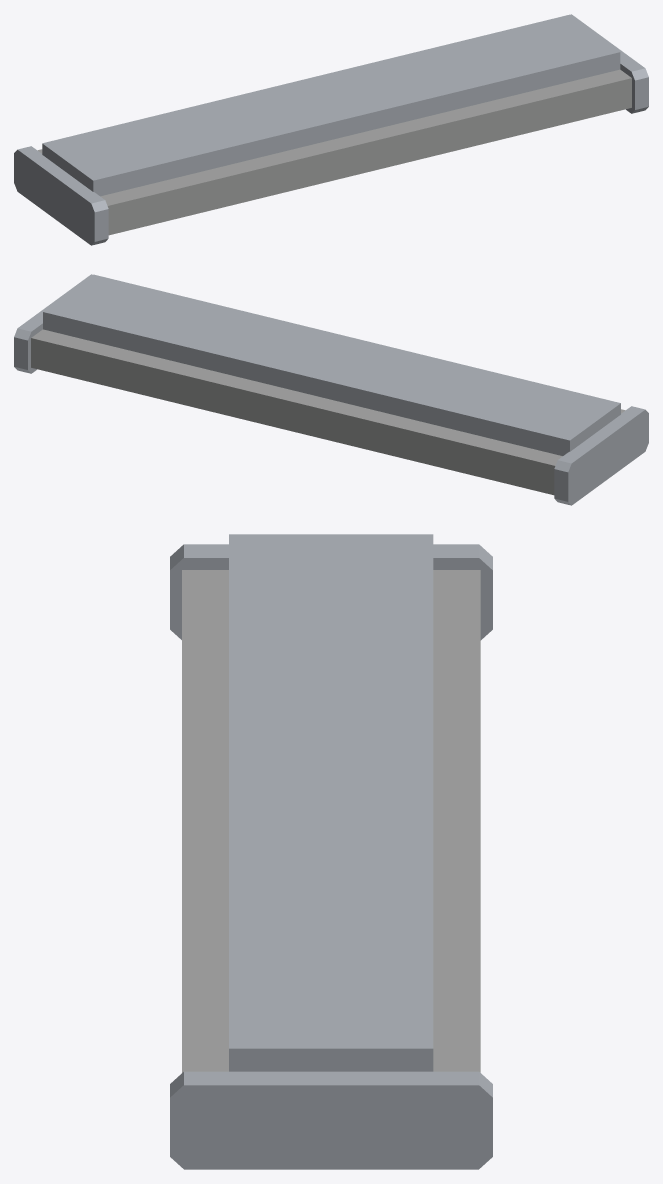
Rendered from SM_Prop_Lighting_Ceiling_Bar_10.obj.
3 renders of one model, top to bottom at view 1: azimuth 30°, elevation 25°; view 2: azimuth 150°, elevation 25°; view 3: azimuth 270°, elevation 25°, orthographic. The views are drawn at different scales.
Parts seen in each view (by area): view 1: SM_Prop_Lighting_Ceiling_Bar_10_0; view 2: SM_Prop_Lighting_Ceiling_Bar_10_0; view 3: SM_Prop_Lighting_Ceiling_Bar_10_0.
Boxes of the visible parts, x1,y1,x2,y2 form: SM_Prop_Lighting_Ceiling_Bar_10_0: (14, 14, 648, 245); SM_Prop_Lighting_Ceiling_Bar_10_0: (14, 274, 648, 505); SM_Prop_Lighting_Ceiling_Bar_10_0: (170, 534, 492, 1169).
Size of the model in its own units: 1.47 by 0.1359 by 0.3717.
Materials: 1 (1 with a texture image).
